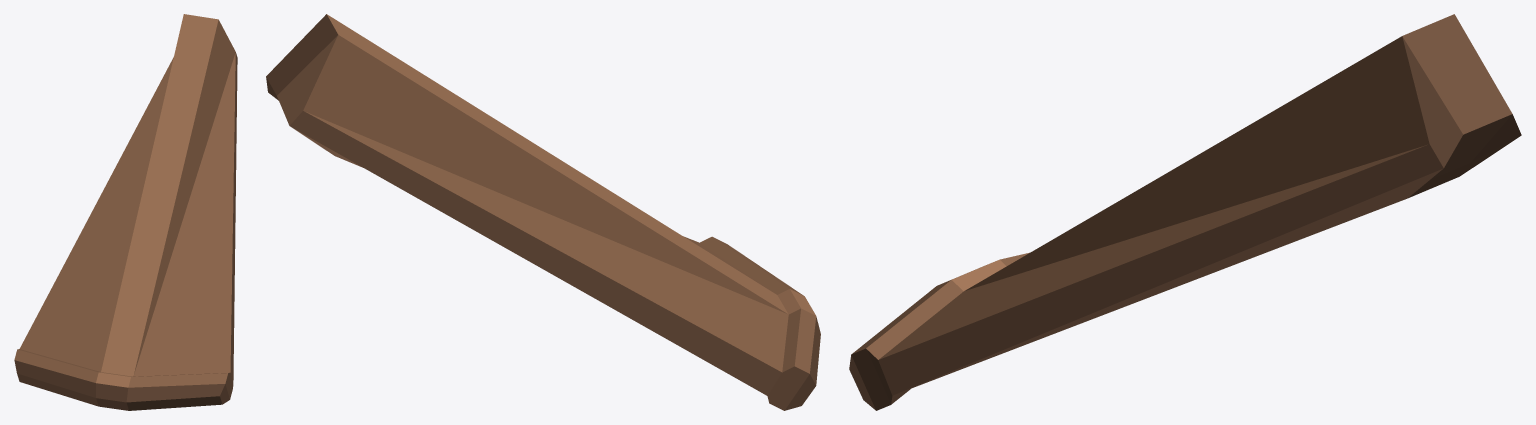
The model's file is SM_Bld_Roof_Manor_Edge_Corner_01.fbx.
The picture shows the model from 3 angles, left to right: view 1: azimuth 30°, elevation 25°; view 2: azimuth 150°, elevation 25°; view 3: azimuth 270°, elevation 25°; orthographic projection. The views are drawn at different scales.
Parts seen in each view (by area): view 1: SM_Bld_Roof_Manor_Edge_Corner_01; view 2: SM_Bld_Roof_Manor_Edge_Corner_01; view 3: SM_Bld_Roof_Manor_Edge_Corner_01.
Boxes of the visible parts, <box> form: SM_Bld_Roof_Manor_Edge_Corner_01: <box>14,14,237,410</box>; SM_Bld_Roof_Manor_Edge_Corner_01: <box>266,14,820,410</box>; SM_Bld_Roof_Manor_Edge_Corner_01: <box>849,14,1521,410</box>.
Bounding box in the file's own units: 98 × 80.57 × 97.82.
